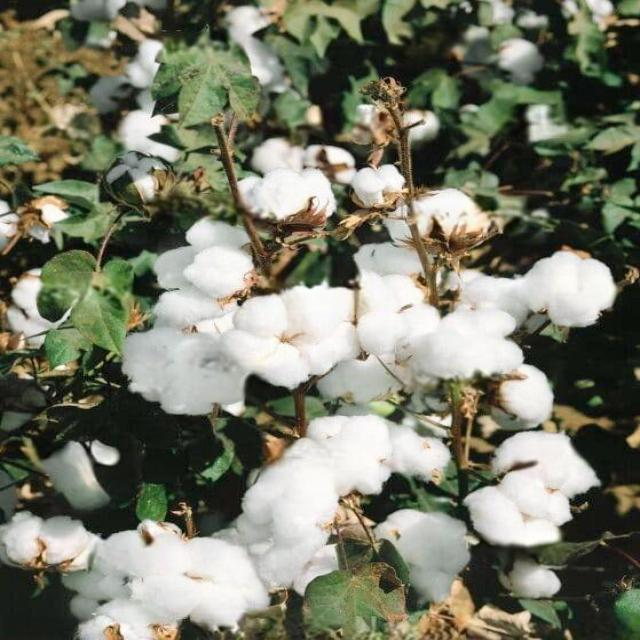Leaf: (207, 278, 369, 400), (113, 316, 259, 429), (134, 535, 283, 640), (145, 206, 263, 338), (368, 494, 482, 617), (389, 304, 536, 392), (232, 452, 352, 558), (290, 410, 401, 512), (374, 184, 508, 266), (480, 425, 611, 505), (458, 474, 584, 554), (376, 180, 495, 256), (221, 167, 350, 235), (514, 247, 620, 329), (226, 167, 345, 230), (0, 511, 107, 579), (345, 155, 420, 216), (488, 552, 573, 604)
